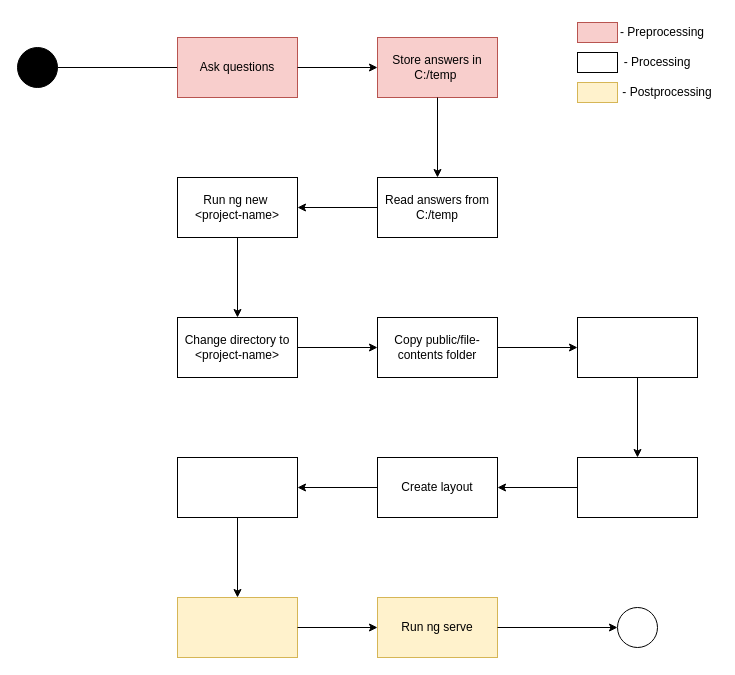
This 735x675 diagram has some shape labels left out. Here are the shapes that lost their labels. From the top down, the centre of each, then its label:
At (x=637, y=347): "Modify angular.json".
At (x=237, y=487): "Run npm install <dependencies>".
At (x=637, y=487): "Modify config.json".
At (x=237, y=627): "Run npx npm- check-updates".
